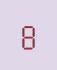eight: (19, 19, 35, 50)
